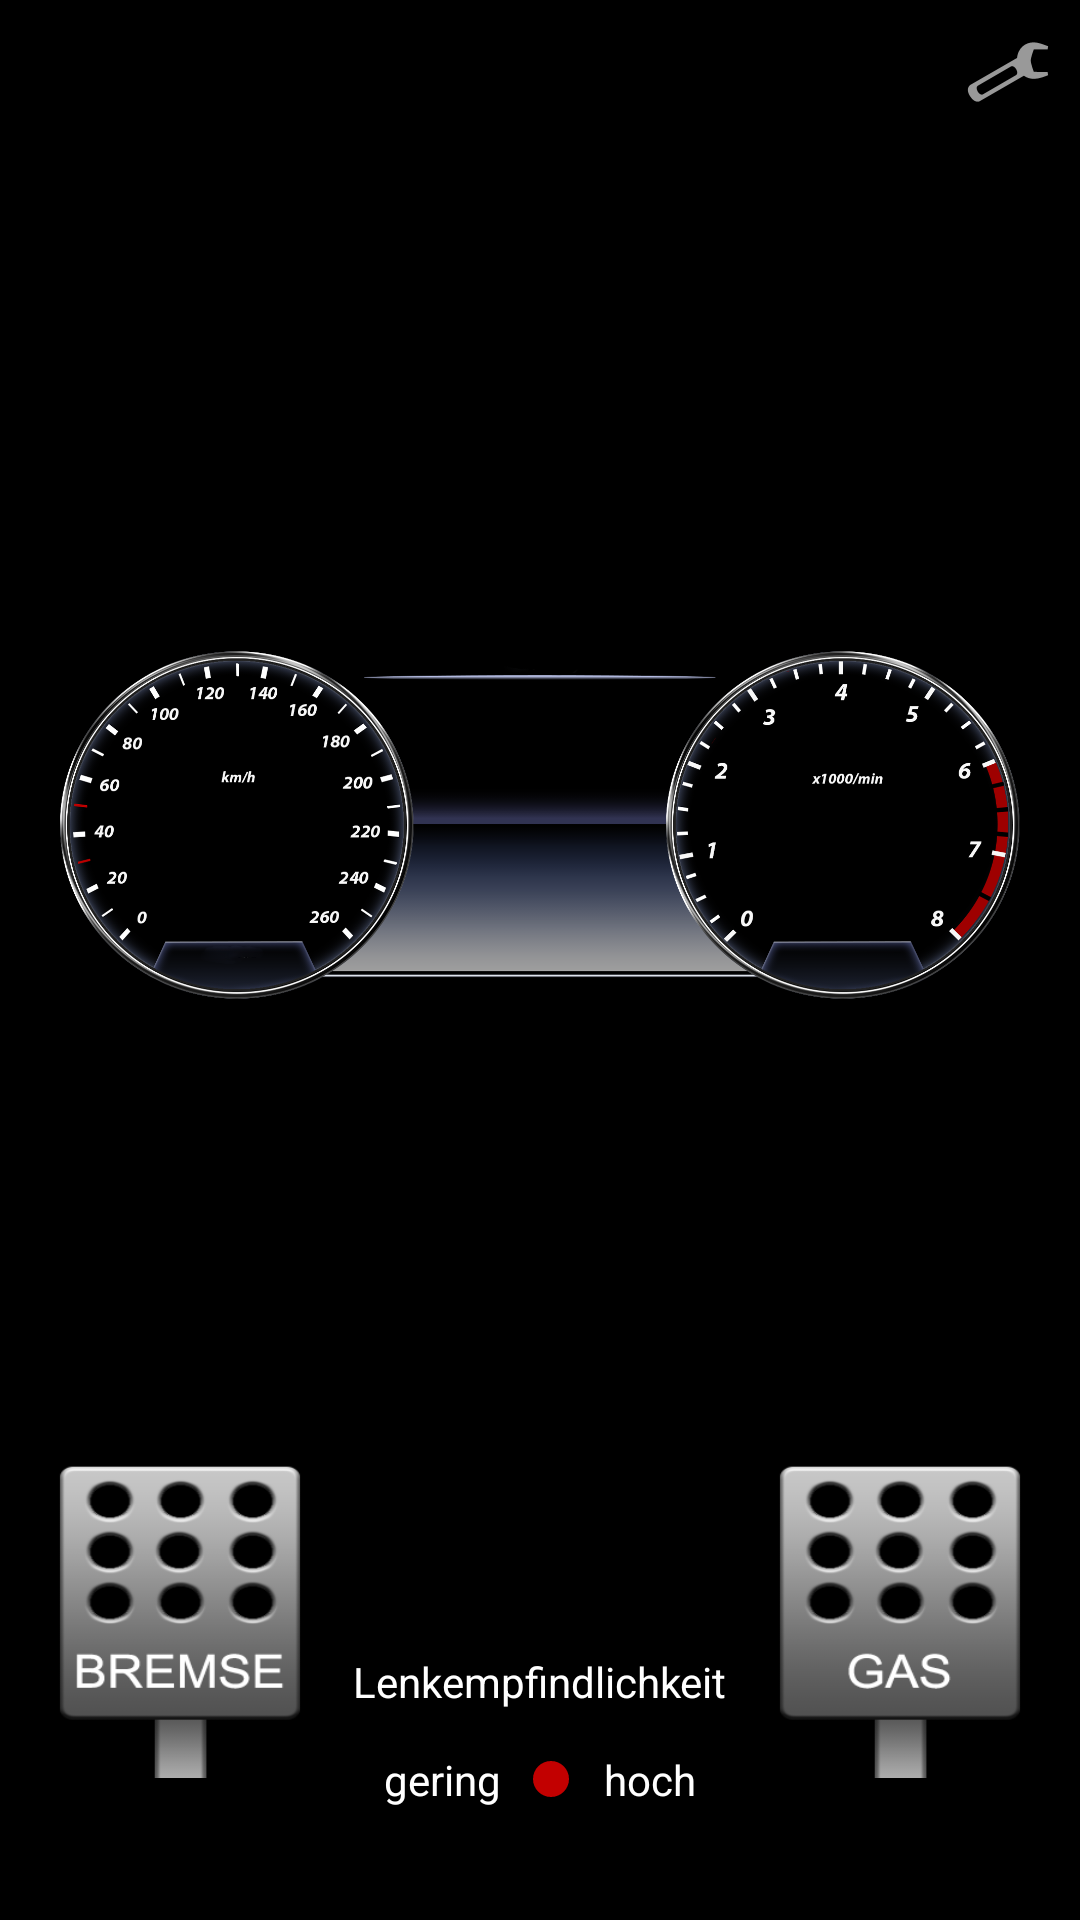

Screen size 1080 × 1920. Icon name, then its center in pixels as (x,y):
preferences: (1008,72)
